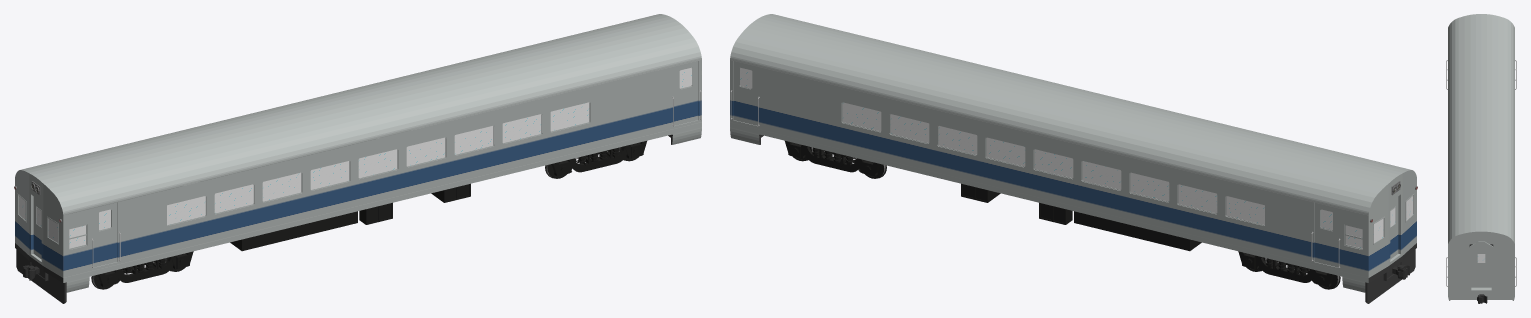
Rendered from commuter_cabcar.obj.
3 renders of one model, left to right at view 1: azimuth 30°, elevation 25°; view 2: azimuth 150°, elevation 25°; view 3: azimuth 270°, elevation 25°, orthographic. The views are drawn at different scales.
Parts seen in each view (by area): view 1: FRAME_roof, FRAME_mainbody, GLASS, FRAME, obj2, undercarshit, windowframes, BOGEY_FRONT, BOGEY_REAR, FRAME1; view 2: FRAME_roof, FRAME_mainbody, GLASS, FRAME, obj2, undercarshit, windowframes, BOGEY_REAR, BOGEY_FRONT, FRAME1; view 3: FRAME_roof, obj3, FRAME, doors, gangway, handrails, couplers, GLASS.
Boxes of the visible parts, bbox=[...] form: FRAME_roof: bbox=[21, 14, 701, 215]; FRAME_mainbody: bbox=[15, 59, 701, 277]; GLASS: bbox=[18, 67, 691, 248]; FRAME: bbox=[15, 122, 701, 303]; obj2: bbox=[93, 61, 698, 267]; undercarshit: bbox=[230, 183, 470, 251]; windowframes: bbox=[69, 67, 692, 249]; BOGEY_FRONT: bbox=[98, 251, 193, 286]; BOGEY_REAR: bbox=[551, 141, 646, 175]; FRAME1: bbox=[16, 249, 64, 303]; FRAME_roof: bbox=[730, 14, 1410, 215]; FRAME_mainbody: bbox=[730, 59, 1416, 277]; GLASS: bbox=[740, 67, 1413, 248]; FRAME: bbox=[730, 122, 1416, 303]; obj2: bbox=[733, 61, 1338, 267]; undercarshit: bbox=[961, 183, 1201, 251]; windowframes: bbox=[739, 67, 1362, 249]; BOGEY_REAR: bbox=[785, 141, 880, 175]; BOGEY_FRONT: bbox=[1238, 251, 1333, 286]; FRAME1: bbox=[1367, 249, 1415, 303]; FRAME_roof: bbox=[1448, 14, 1514, 243]; obj3: bbox=[1448, 231, 1514, 289]; FRAME: bbox=[1448, 289, 1514, 300]; doors: bbox=[1474, 248, 1488, 287]; gangway: bbox=[1469, 241, 1493, 292]; handrails: bbox=[1446, 60, 1516, 286]; couplers: bbox=[1477, 294, 1487, 303]; GLASS: bbox=[1477, 254, 1485, 262].
Size of the model in its own units: 25 by 4.2 by 3.29.
4 materials, 3 textured.
